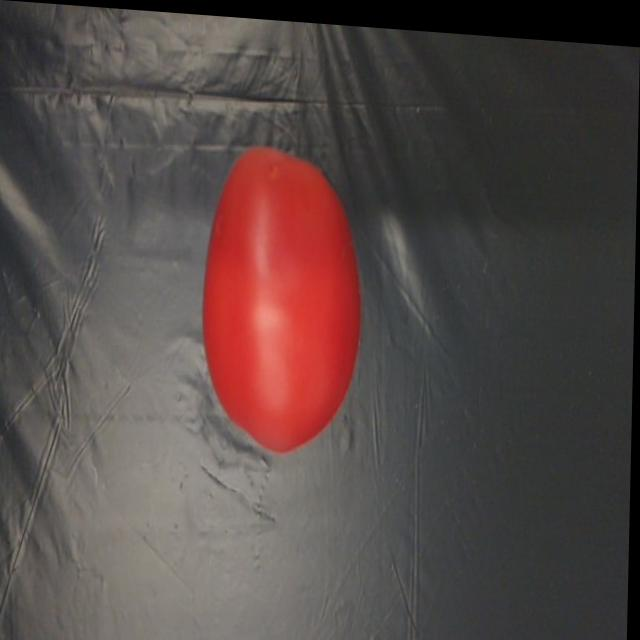kirmizi: (187, 133, 374, 460)
